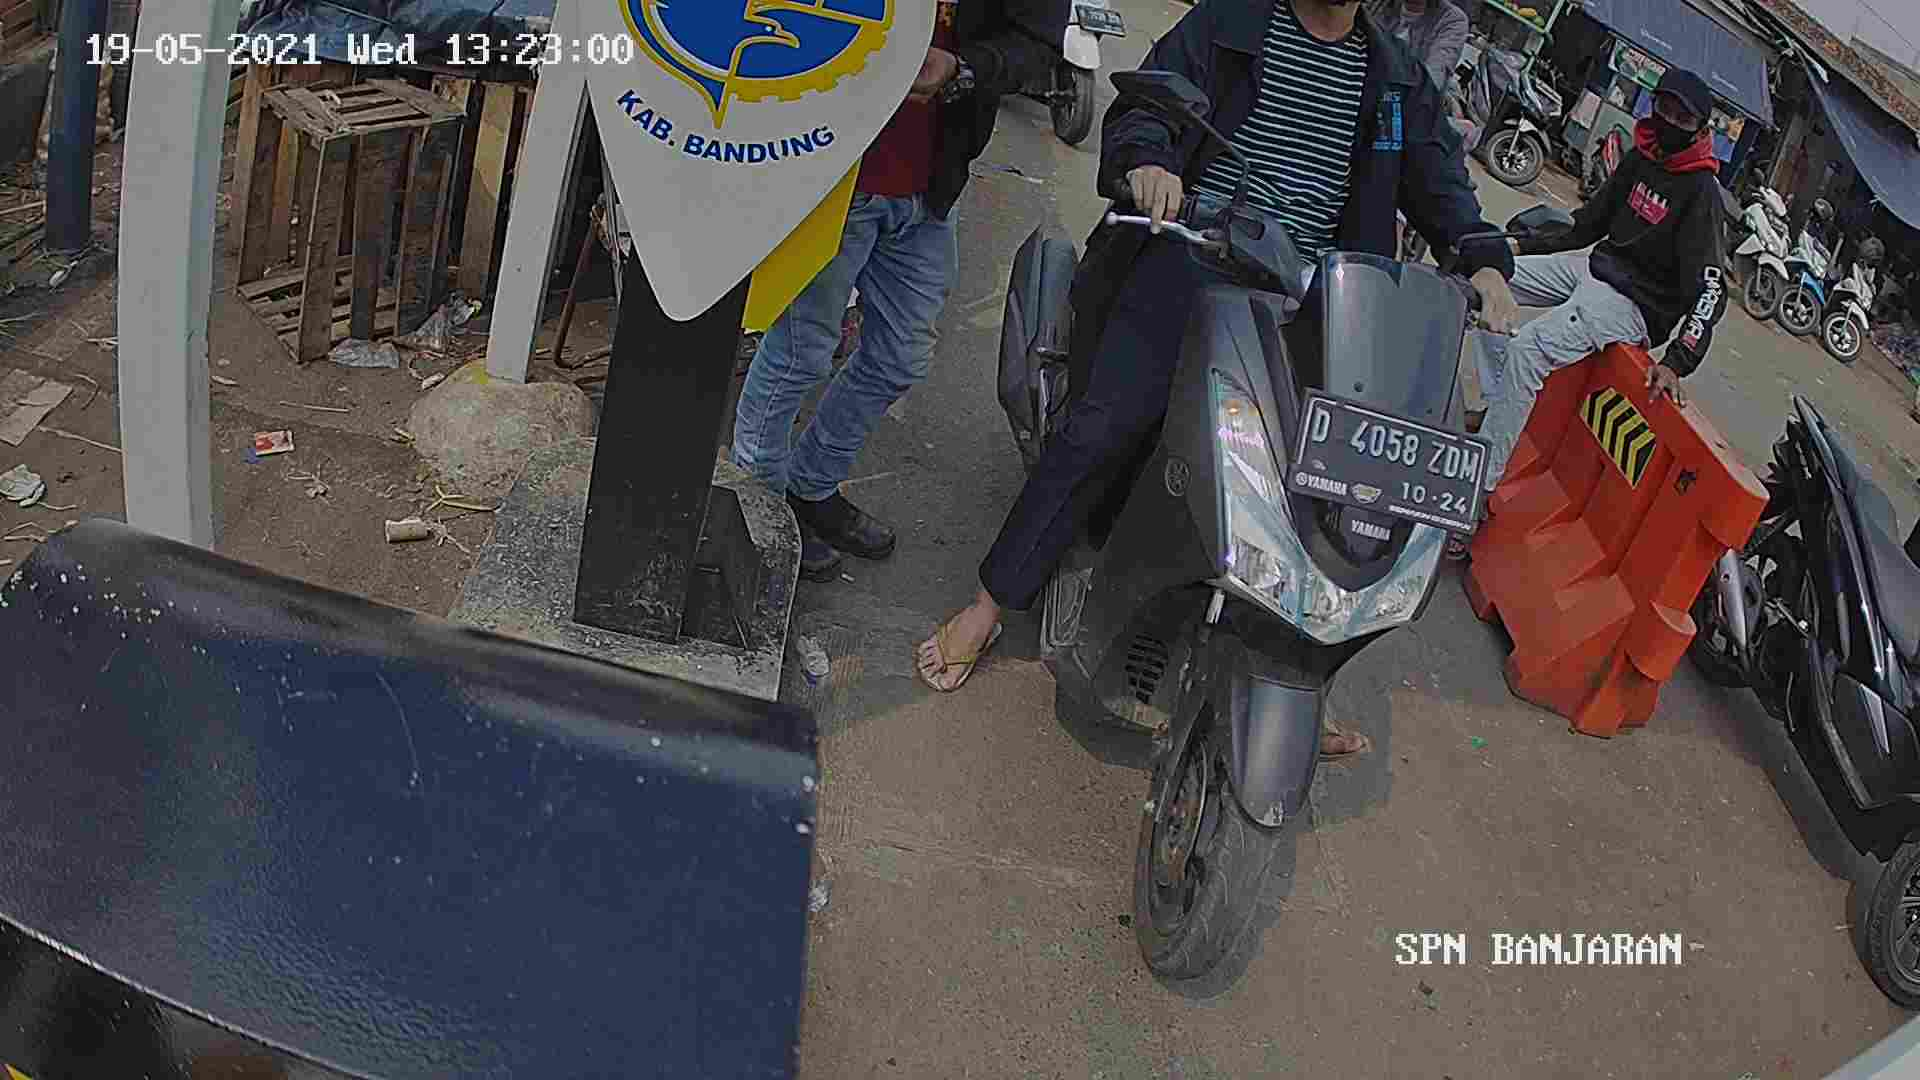motor: (934, 165, 1476, 956)
